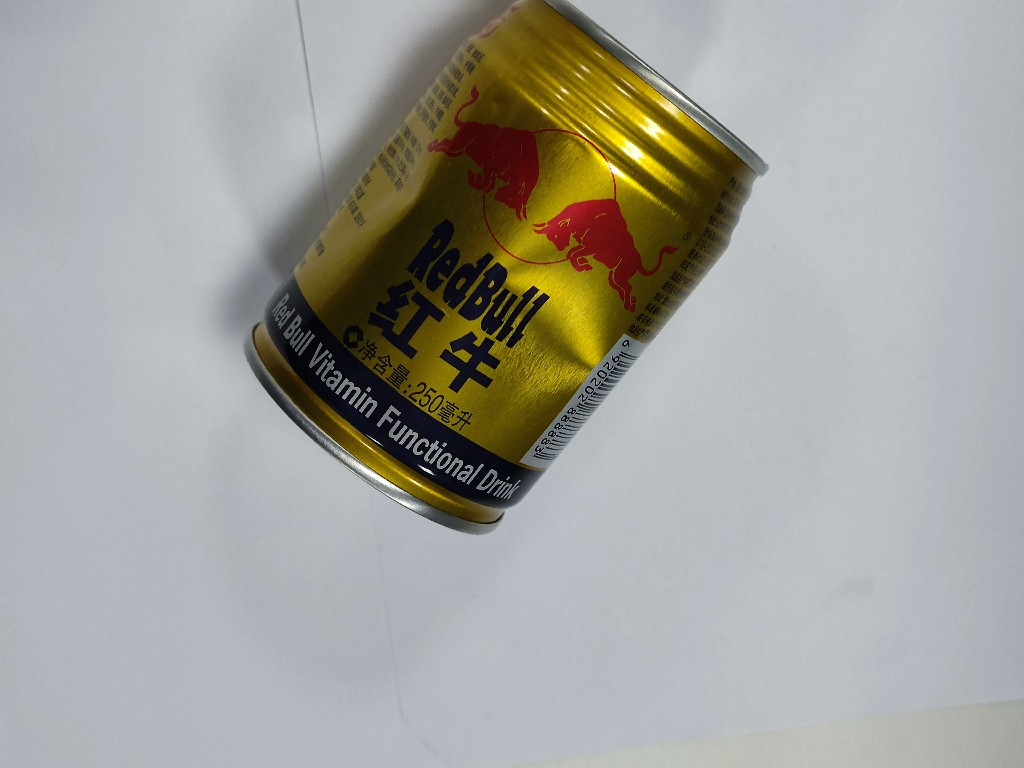can: (239, 1, 776, 540)
